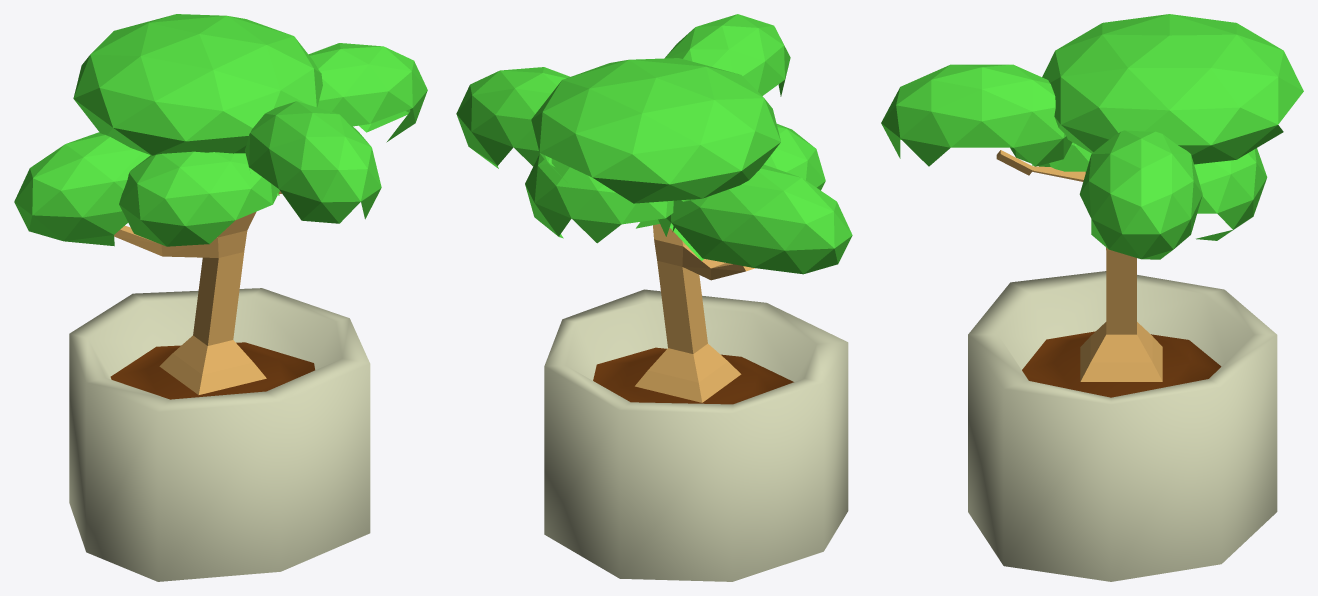
The model's file is PLANTINHA.dae.
The picture shows the model from 3 angles, left to right: view 1: azimuth 30°, elevation 25°; view 2: azimuth 150°, elevation 25°; view 3: azimuth 270°, elevation 25°; orthographic projection. The views are drawn at different scales.
Visible parts, largest first — view 1: Icosphere.000, Cube.027; view 2: Cube.027, Icosphere.000; view 3: Cube.027, Icosphere.000.
Boxes of the visible parts, <box> form: Icosphere.000: <box>14,14,427,394</box>; Cube.027: <box>69,288,370,581</box>; Cube.027: <box>544,289,848,581</box>; Icosphere.000: <box>456,14,852,402</box>; Cube.027: <box>968,271,1277,581</box>; Icosphere.000: <box>881,14,1303,381</box>.
Size of the model in its own units: 3.18 by 2.87 by 3.62.
